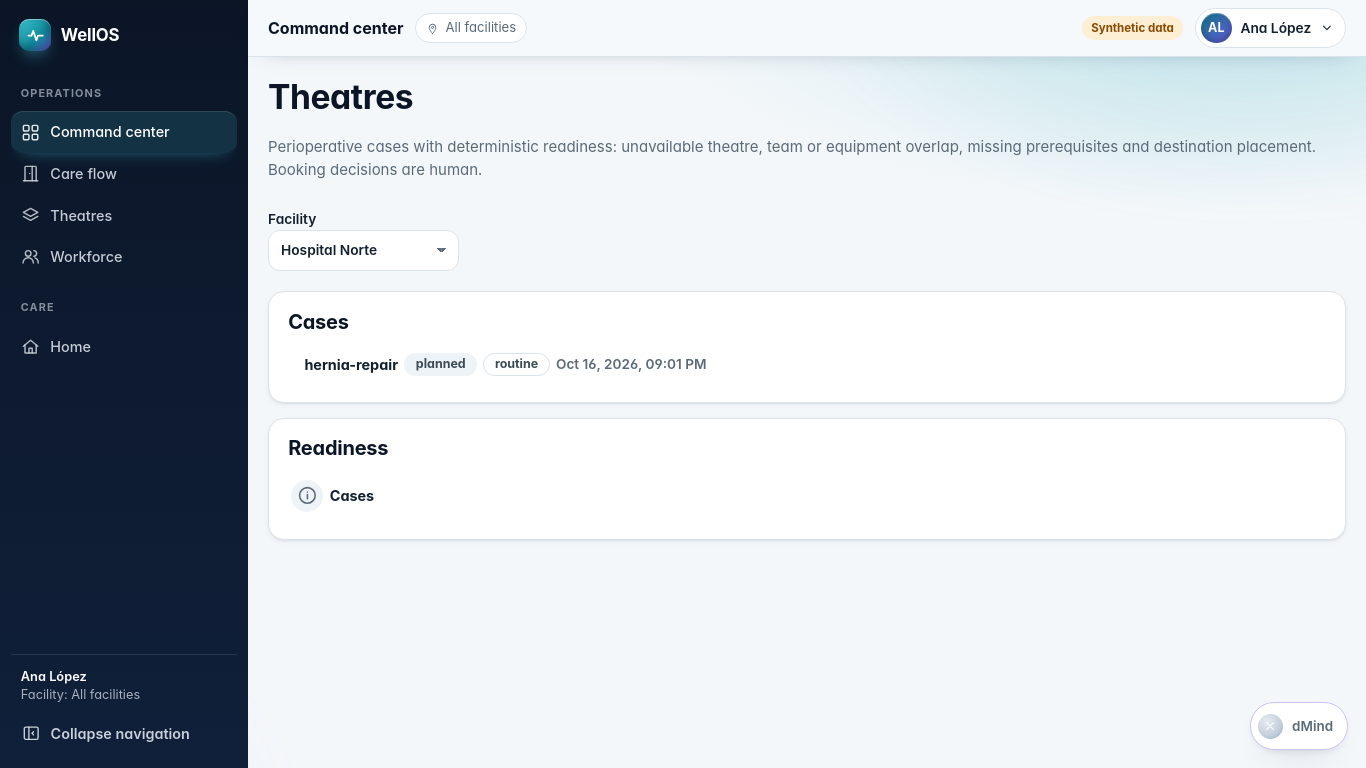
Test: /operations/workforce and /operations/theatres › shows deterministic theatre readiness with blocking conflicts
The image size is (1366, 768).
Click the button "hernia-repair planned routine Oct 16, 2026, 09:01 PM" at (351, 364), box top-left (288, 344), bottom-right (1326, 385)
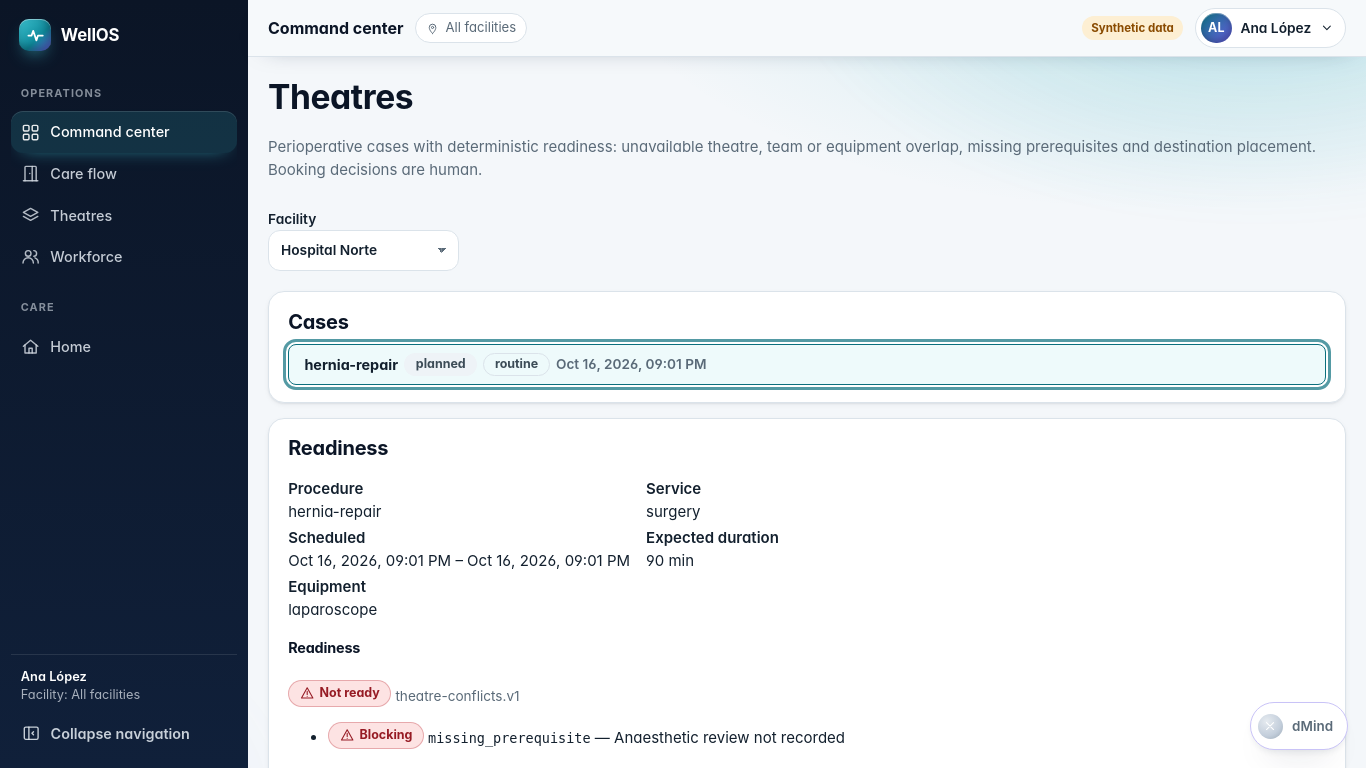
Now the element with test id "theatre-readiness" shows "Not ready", box top-left (320, 685), bottom-right (380, 700)
Now the element with test id "theatre-readiness" shows "theatre-conflicts.v1", box top-left (395, 688), bottom-right (520, 704)
Now the element with test id "theatre-readiness" shows "Anaesthetic review not recorded", box top-left (614, 728), bottom-right (845, 747)
